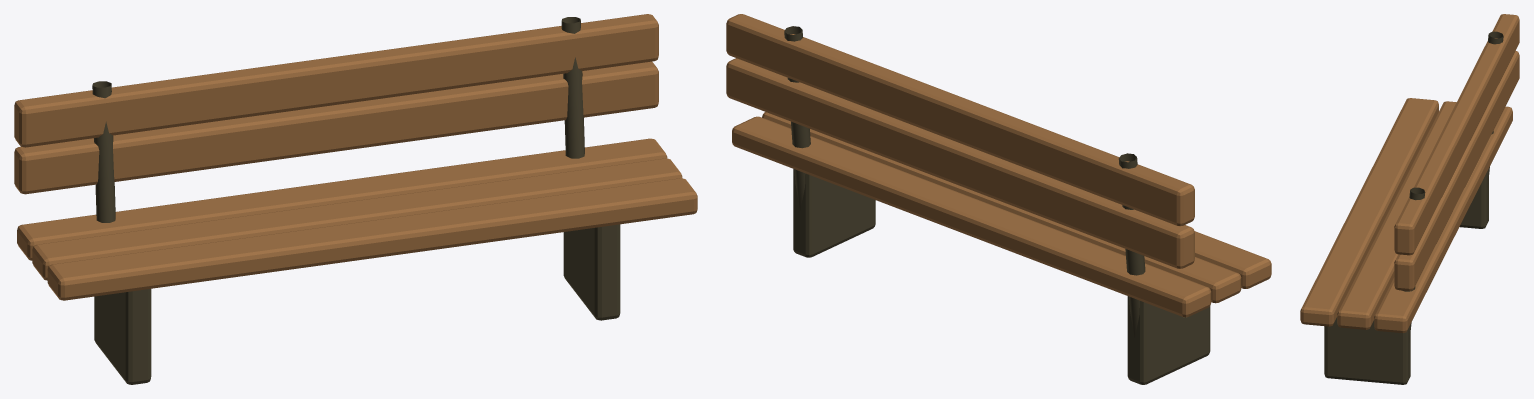
The model's file is bench.glb.
The picture shows the model from 3 angles, left to right: view 1: azimuth 30°, elevation 25°; view 2: azimuth 150°, elevation 25°; view 3: azimuth 270°, elevation 25°; orthographic projection. The views are drawn at different scales.
Visible parts, largest first — view 1: part_00003, part_00002, part_00004, part_00005, part_00006, part_00007, part_00008, part_00001, part_00000; view 2: part_00003, part_00002, part_00006, part_00007, part_00008, part_00005, part_00004, part_00000, part_00001; view 3: part_00004, part_00003, part_00005, part_00008, part_00002, part_00006, part_00007, part_00001, part_00000.
Part boxes in pixels (x1,y1,x2,y2): part_00003: [14, 14, 658, 147]; part_00002: [14, 61, 658, 194]; part_00004: [47, 178, 697, 300]; part_00005: [32, 158, 682, 280]; part_00006: [17, 138, 667, 260]; part_00007: [94, 289, 151, 384]; part_00008: [563, 224, 620, 320]; part_00001: [561, 17, 584, 158]; part_00000: [92, 81, 115, 222]; part_00003: [726, 14, 1194, 226]; part_00002: [726, 58, 1194, 268]; part_00006: [732, 116, 1211, 317]; part_00007: [1127, 296, 1210, 384]; part_00008: [793, 169, 875, 257]; part_00005: [762, 112, 1241, 303]; part_00004: [1194, 231, 1271, 288]; part_00000: [1118, 153, 1145, 337]; part_00001: [784, 26, 810, 210]; part_00004: [1300, 98, 1438, 326]; part_00003: [1394, 14, 1519, 255]; part_00005: [1337, 101, 1456, 329]; part_00008: [1324, 317, 1410, 384]; part_00002: [1394, 51, 1519, 290]; part_00006: [1374, 106, 1512, 333]; part_00007: [1459, 173, 1488, 228]; part_00001: [1401, 187, 1425, 342]; part_00000: [1487, 31, 1503, 186].
Size of the model in its own units: 3.07 by 1.24 by 1.28.
